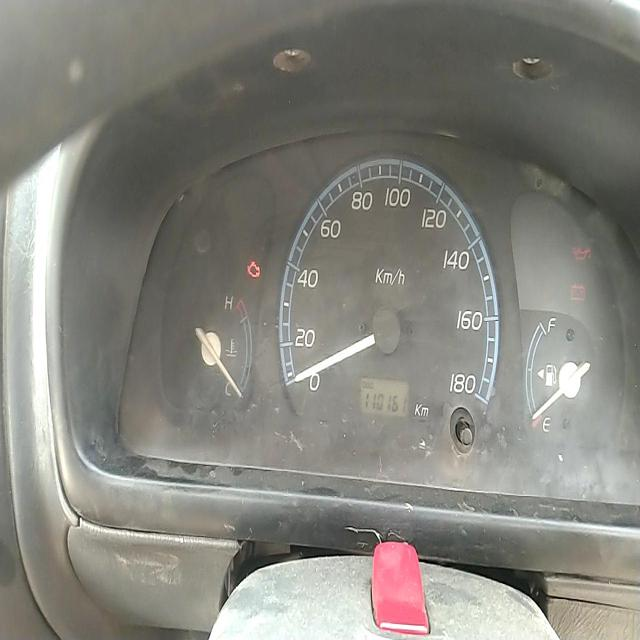odometer: (363, 391, 408, 416)
